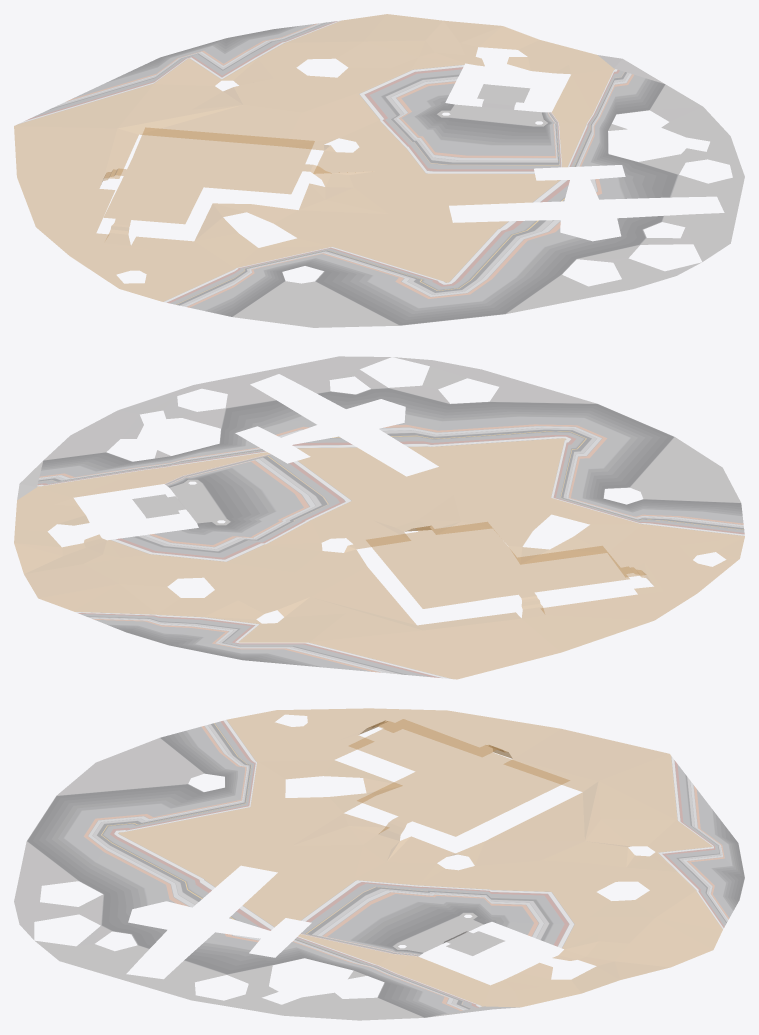
Rendered from SyntyStarterFreebie_Navmesh.glb.
3 views of the same model, one above another, from view 1: azimuth 30°, elevation 25°; view 2: azimuth 150°, elevation 25°; view 3: azimuth 270°, elevation 25° (orthographic).
Parts seen in each view (by area): view 1: Navmesh; view 2: Navmesh; view 3: Navmesh.
Part boxes in pixels (<box>): Navmesh: <box>14,14,744,327</box>; Navmesh: <box>14,356,744,679</box>; Navmesh: <box>14,708,744,1020</box>.
Size of the model in its own units: 40.44 by 0.8886 by 40.
Materials: 1 (1 with a texture image).
